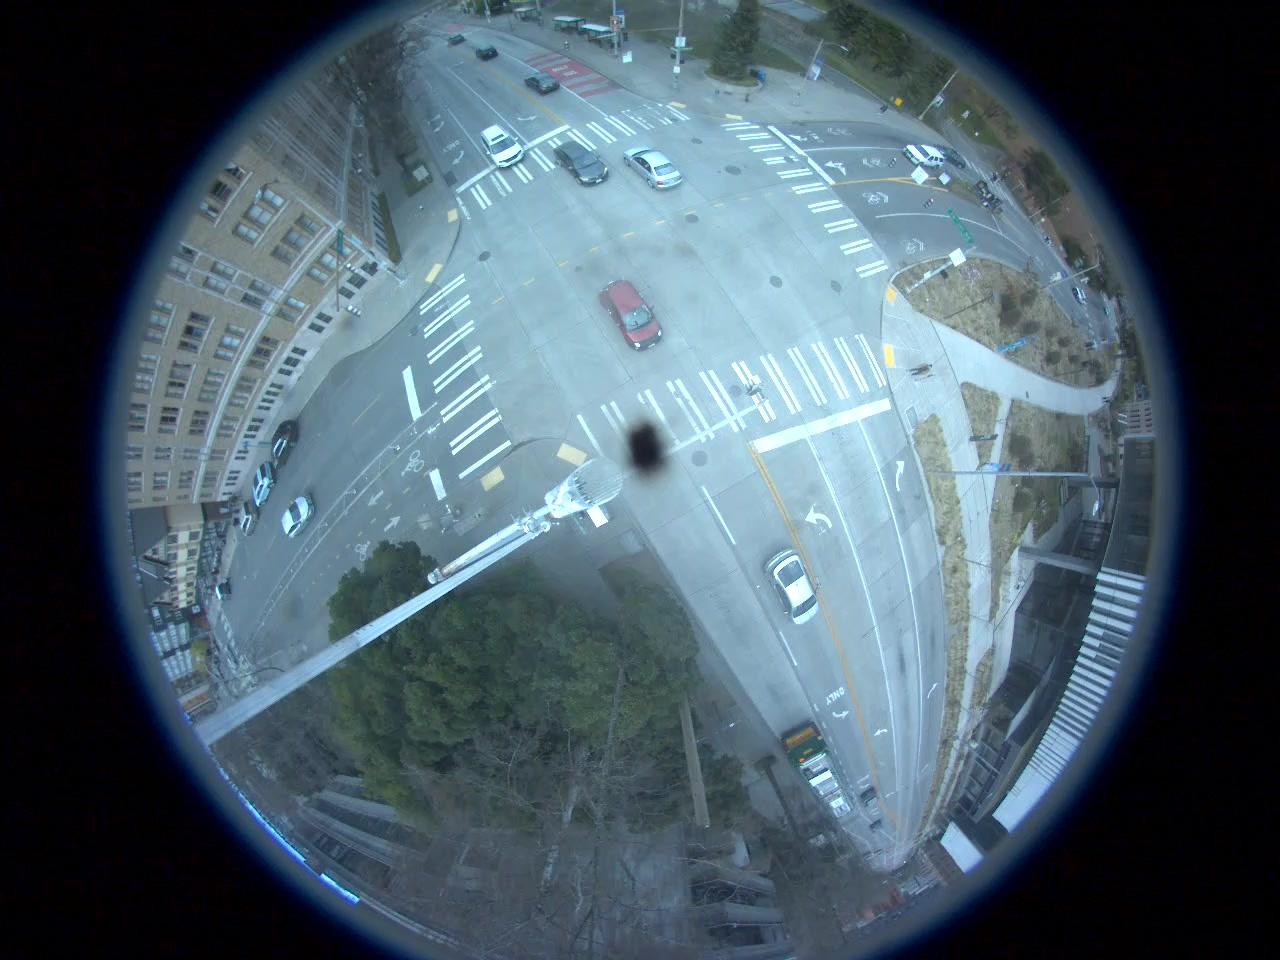bus: (785, 721, 855, 825)
car: (768, 551, 826, 624), (625, 140, 686, 190), (610, 282, 655, 346), (558, 137, 612, 188), (480, 125, 524, 168), (281, 494, 319, 542), (270, 418, 300, 466), (250, 461, 277, 507), (232, 497, 262, 538), (523, 64, 559, 96), (904, 142, 942, 170), (941, 138, 964, 168), (476, 40, 500, 64), (859, 784, 880, 810)
person: (910, 361, 934, 379)
